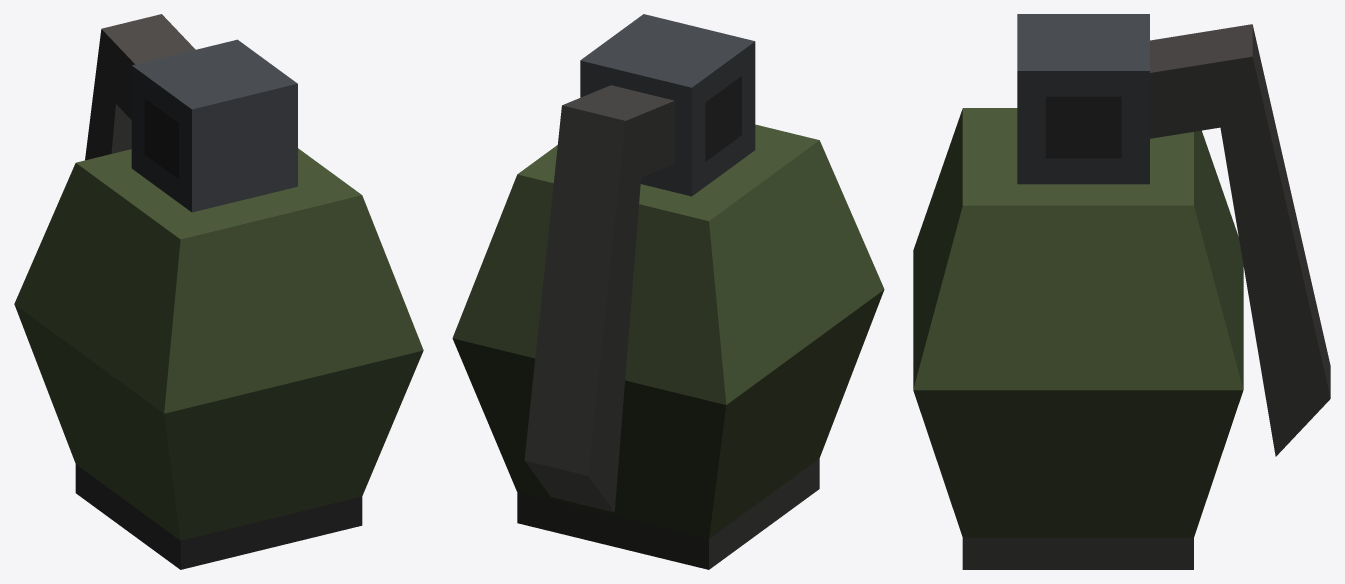
The model's file is Grenade_Explosive.fbx.
The picture shows the model from 3 angles, left to right: view 1: azimuth 30°, elevation 25°; view 2: azimuth 150°, elevation 25°; view 3: azimuth 270°, elevation 25°; orthographic projection. The views are drawn at different scales.
Visible parts, largest first — view 1: Grenade_Explosive; view 2: Grenade_Explosive; view 3: Grenade_Explosive.
Part boxes in pixels (x1=…): Grenade_Explosive: x1=14, y1=14, x2=423, y2=569; Grenade_Explosive: x1=452, y1=14, x2=884, y2=569; Grenade_Explosive: x1=913, y1=14, x2=1330, y2=569.
Size of the model in its own units: 60 by 95.76 by 75.85.
